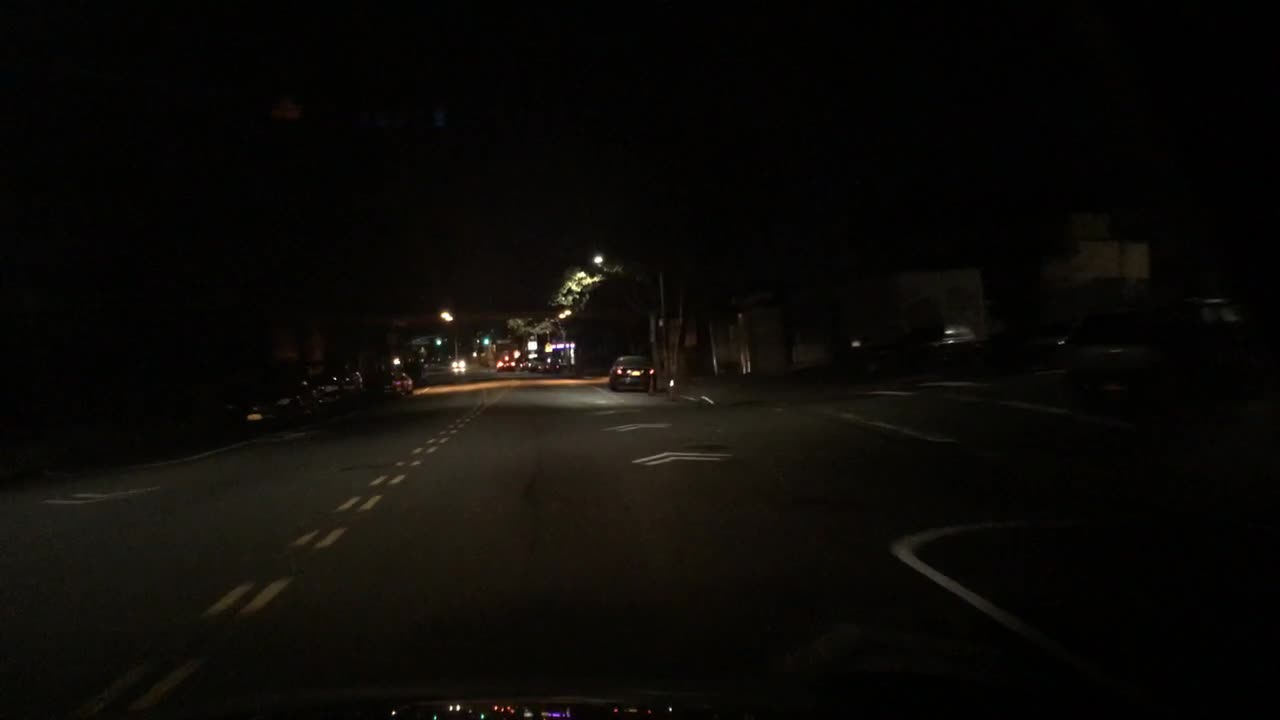car: (1065, 294, 1278, 408), (844, 323, 977, 377), (216, 369, 325, 430), (986, 317, 1074, 369), (607, 353, 657, 391), (309, 371, 349, 415), (362, 366, 415, 399), (330, 366, 370, 406), (401, 358, 422, 381), (494, 353, 517, 372), (542, 354, 561, 372), (525, 355, 544, 372), (447, 354, 466, 369), (416, 355, 430, 367), (516, 355, 528, 369)
